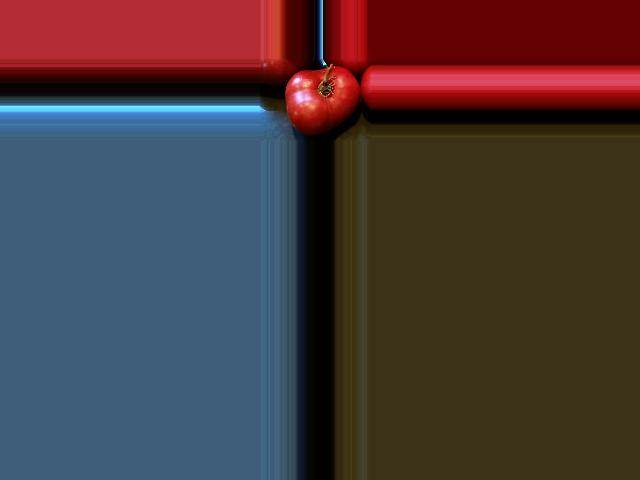tomato: (285, 66, 360, 135)
